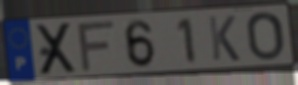1: (175, 17, 199, 64)
6: (122, 18, 157, 70)
F: (76, 18, 118, 74)
K: (206, 14, 242, 63)
O: (245, 10, 286, 63)
X: (35, 21, 80, 78)
